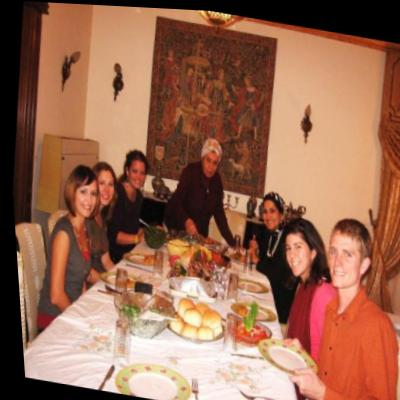happy: (320, 226, 362, 288), (277, 226, 312, 274), (92, 168, 116, 206), (72, 178, 95, 216), (256, 197, 280, 226), (125, 156, 145, 188)
surprise: (199, 147, 216, 172)
